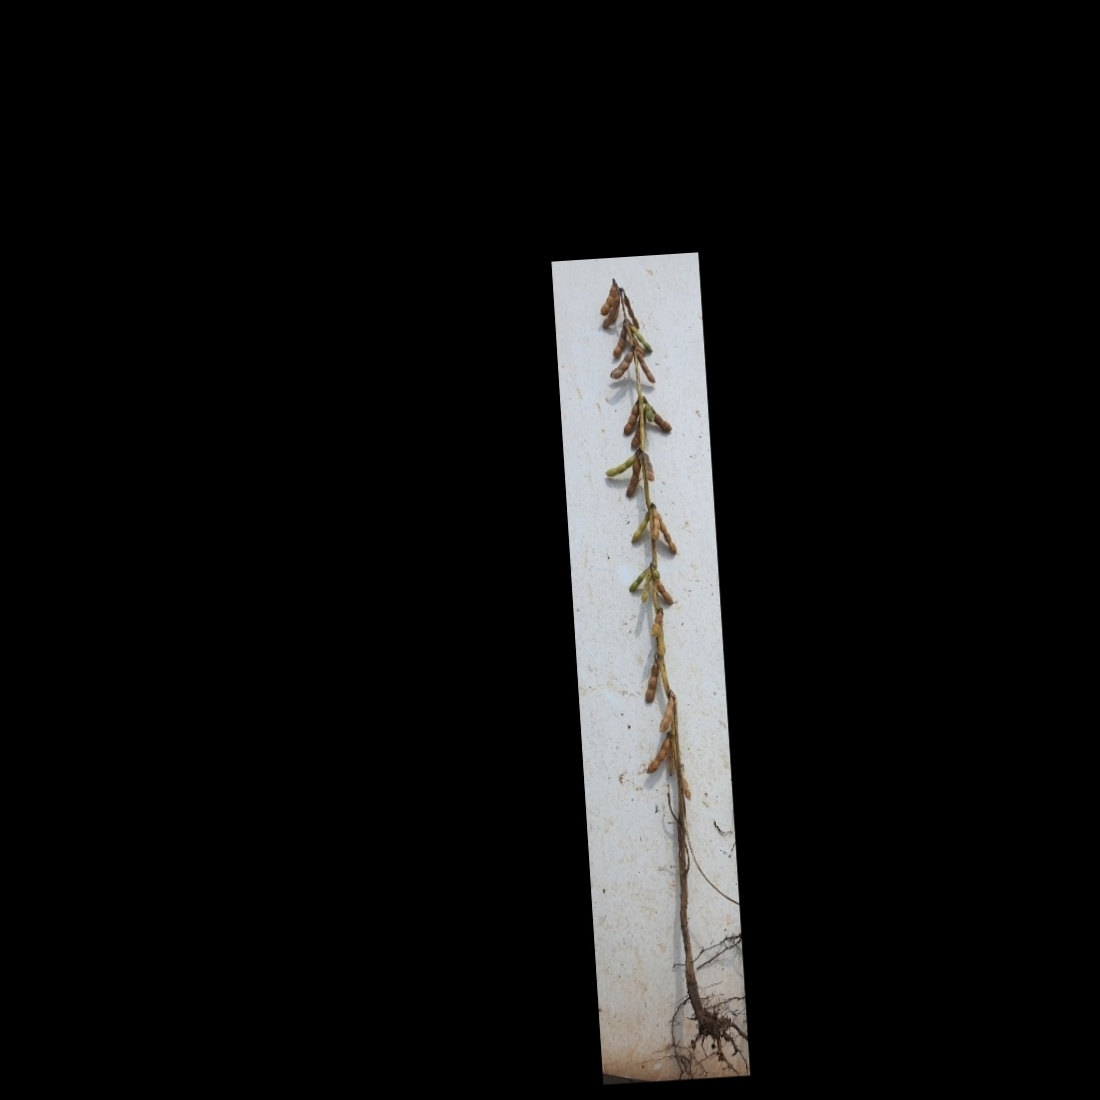pod: (642, 738, 672, 777), (641, 657, 661, 706), (603, 450, 641, 476), (605, 350, 637, 381), (627, 508, 652, 546), (615, 397, 641, 435), (622, 458, 645, 500), (655, 693, 677, 734), (658, 514, 678, 558), (635, 354, 658, 388), (621, 291, 639, 330), (609, 322, 629, 359), (631, 324, 653, 353), (656, 576, 675, 606), (639, 572, 656, 604), (679, 775, 694, 803)
soy: (570, 272, 734, 1065)
